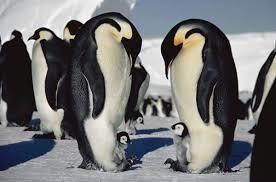emporer: (62, 8, 150, 170), (158, 12, 243, 179)
